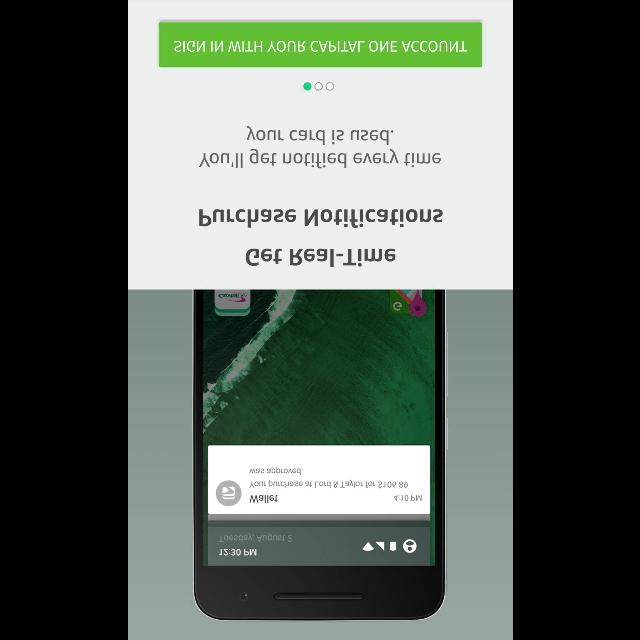image: (191, 290, 447, 622)
pageindicator: (302, 82, 334, 90)
text: (198, 126, 440, 168), (198, 210, 442, 228), (245, 249, 395, 267)
textbutton: (158, 22, 482, 68)
